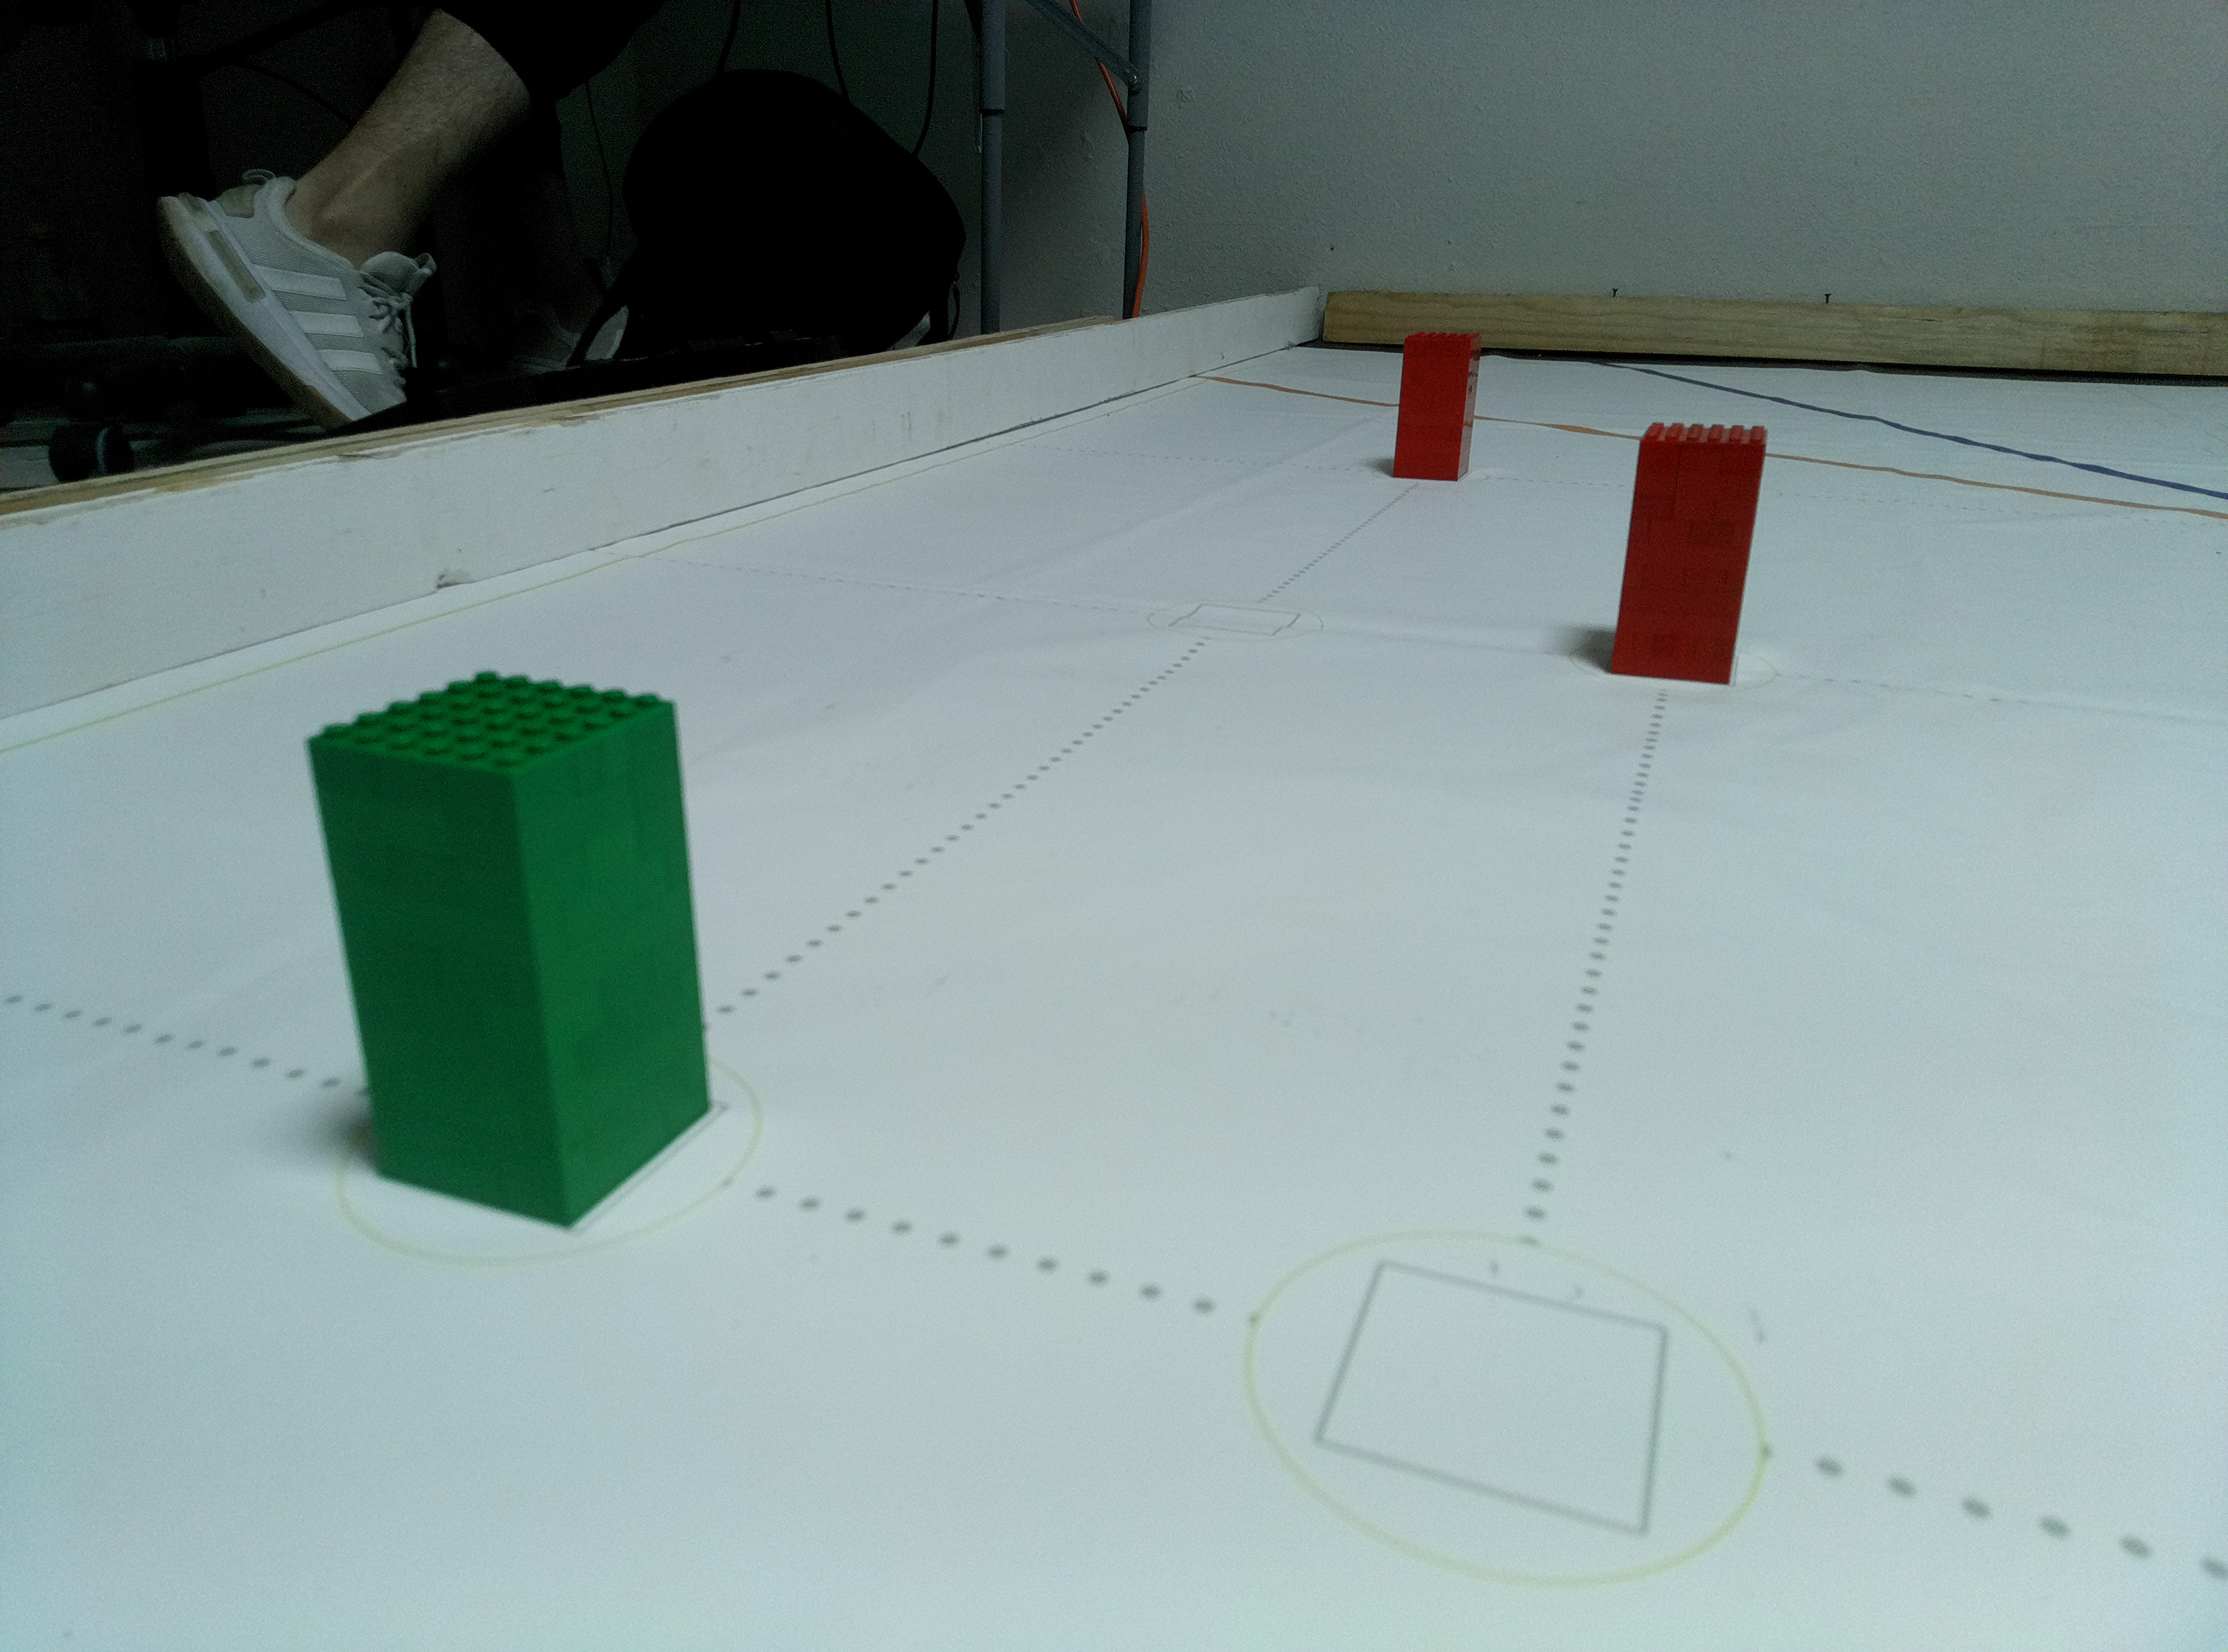greenbox: (297, 663, 722, 1230)
redbox: (1603, 410, 1772, 691), (1386, 328, 1484, 486)
